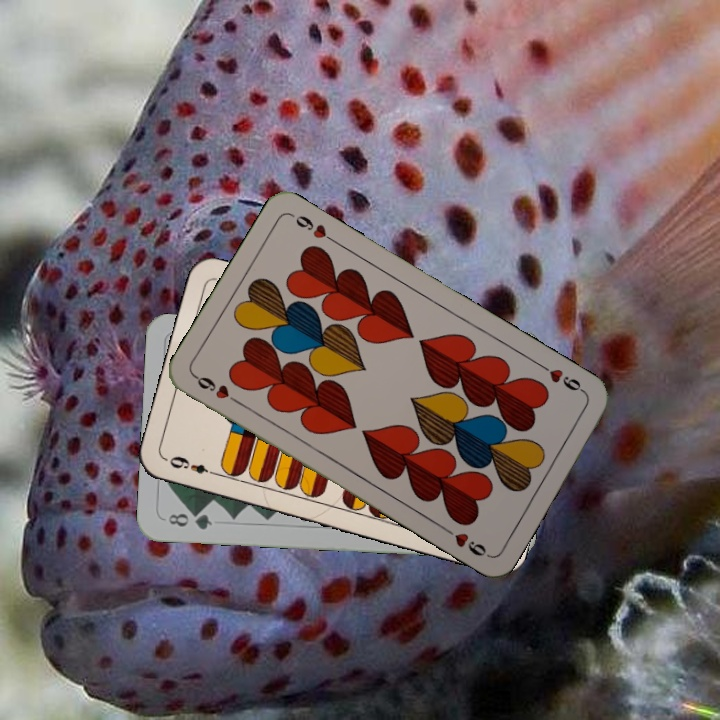E9: (165, 452, 220, 479)
G8: (164, 508, 215, 533)
H9: (190, 371, 243, 408), (536, 360, 589, 397)
